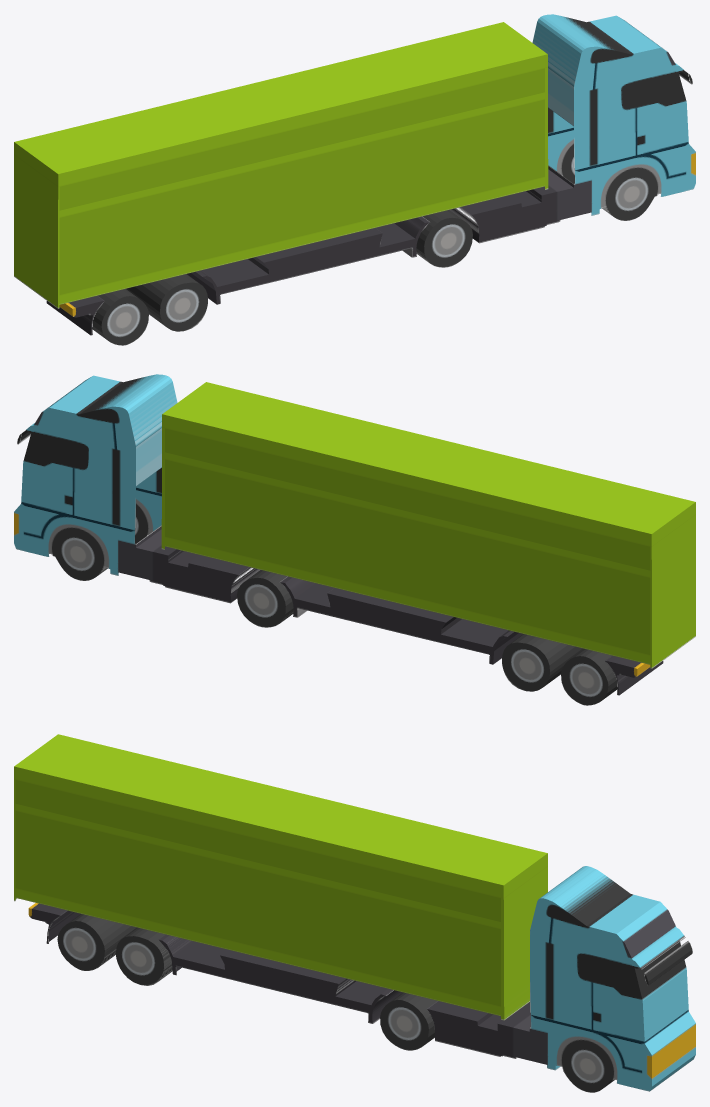
File: blueTruck.FBX
The picture shows the model from 3 angles, top to bottom: view 1: azimuth 30°, elevation 25°; view 2: azimuth 150°, elevation 25°; view 3: azimuth 330°, elevation 25°; orthographic projection.
Parts seen in each view (by area): view 1: blueTruck; view 2: blueTruck; view 3: blueTruck.
Part boxes in pixels (bbox=[...]): blueTruck: bbox=[14, 14, 695, 345]; blueTruck: bbox=[14, 374, 695, 705]; blueTruck: bbox=[14, 734, 695, 1092].
Size of the model in its own units: 87.05 by 24.6 by 10.41.
Materials: 1 (1 with a texture image).
